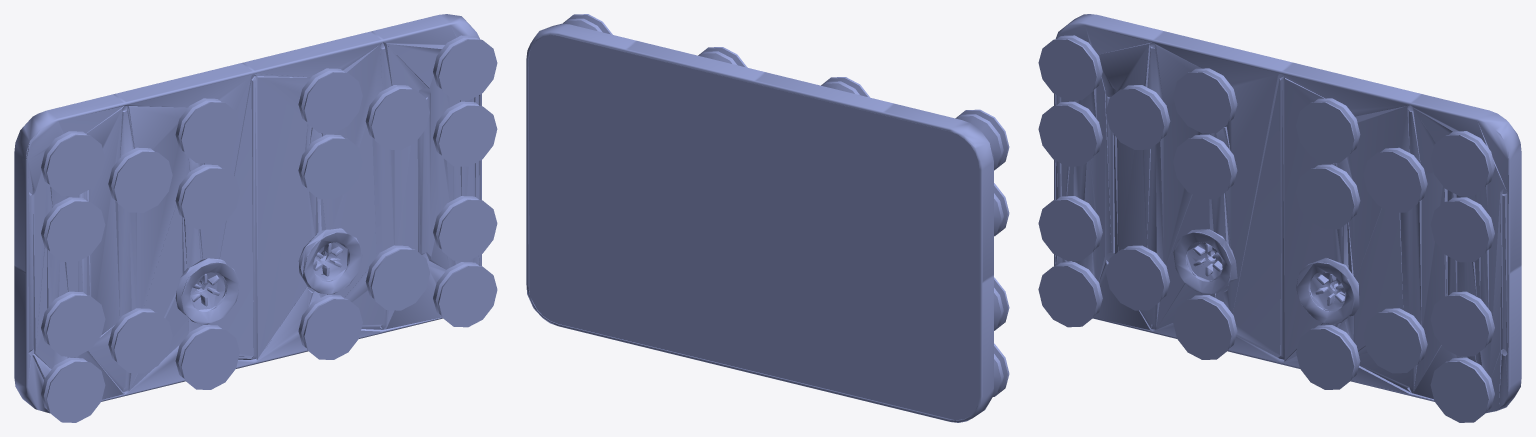
File: vgp30_20cups.obj
3 views of the same model, side by side, from view 1: azimuth 30°, elevation 25°; view 2: azimuth 150°, elevation 25°; view 3: azimuth 330°, elevation 25° (orthographic).
Parts seen in each view (by area): view 1: part_0; view 2: part_0; view 3: part_0.
Part boxes in pixels (x1,y1,x2,y2): part_0: (14,14,497,422); part_0: (526,14,1009,422); part_0: (1038,14,1521,422).
Size of the model in its own units: 0.39 by 0.24 by 0.0451.
